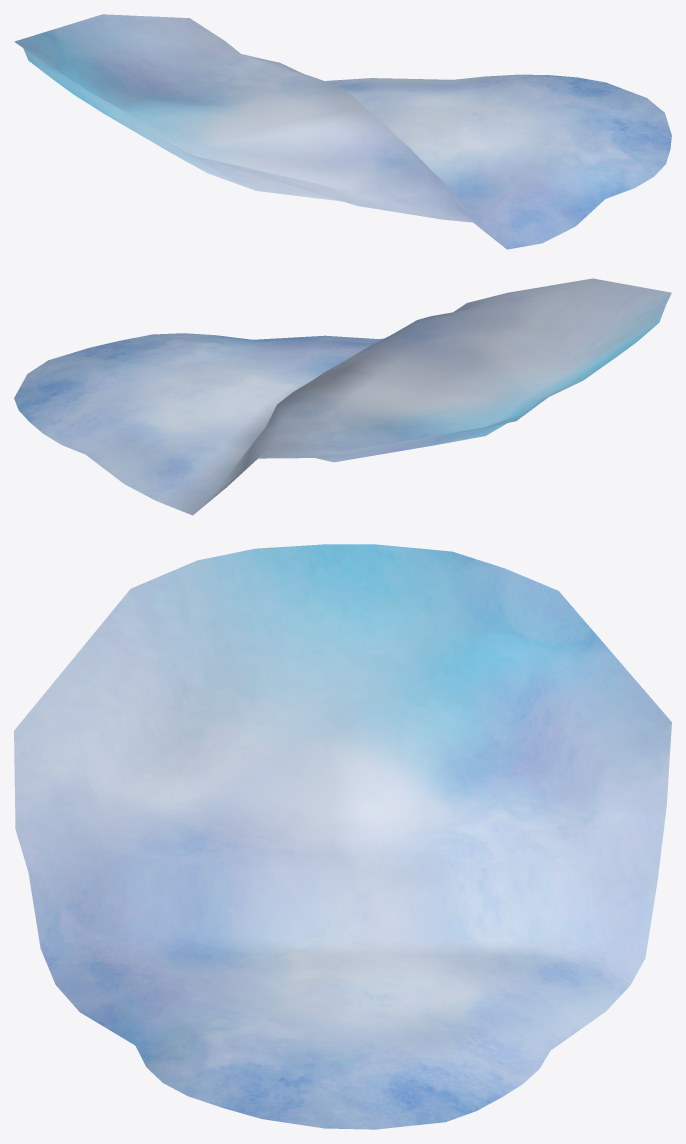
Rendered from world.fbx.
3 views of the same model, one above another, from view 1: azimuth 30°, elevation 25°; view 2: azimuth 150°, elevation 25°; view 3: azimuth 270°, elevation 25° (orthographic). The views are drawn at different scales.
Parts seen in each view (by area): view 1: pPlane1; view 2: pPlane1; view 3: pPlane1.
Boxes of the visible parts, x1,y1,x2,y2 form: pPlane1: [14, 14, 671, 249]; pPlane1: [14, 278, 671, 515]; pPlane1: [14, 544, 671, 1129].
Bounding box in the file's own units: 2969 × 782 × 2203.
